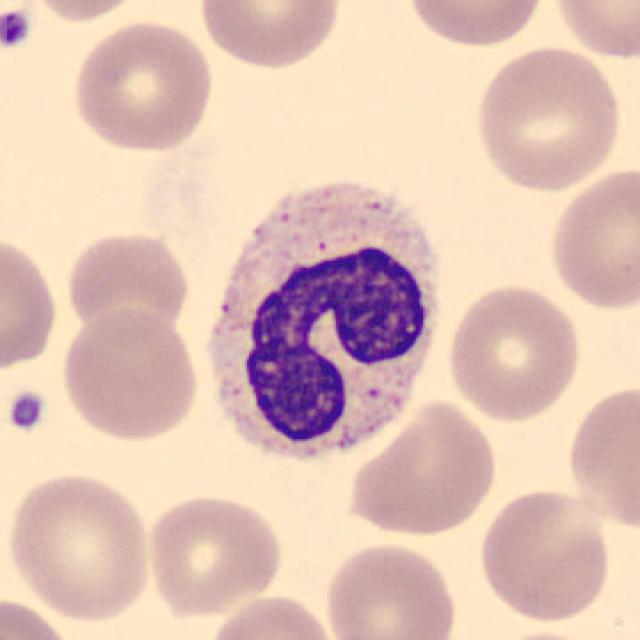Neutrophil: (198, 174, 456, 478)
Platelets: (4, 386, 49, 436), (0, 5, 34, 53)
RBC: (469, 42, 626, 196), (4, 469, 158, 624), (343, 395, 501, 539), (443, 278, 585, 425), (67, 16, 217, 155), (57, 304, 203, 444), (475, 485, 615, 624), (142, 490, 286, 621), (60, 227, 194, 344), (319, 537, 460, 640), (544, 164, 638, 314), (562, 379, 640, 534), (193, 0, 346, 72), (0, 230, 62, 378), (401, 0, 551, 49), (204, 590, 337, 640), (547, 0, 640, 61), (0, 594, 80, 640), (20, 0, 151, 25), (483, 627, 608, 640)
